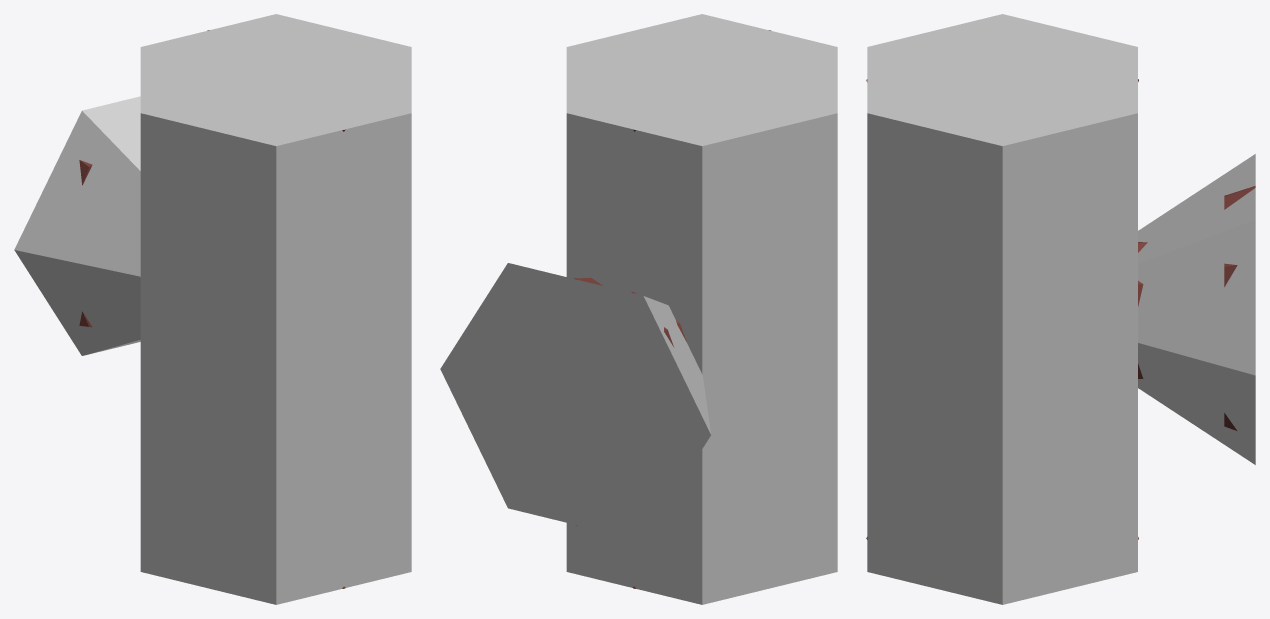
Rendered from SM_PipeMiddle.fbx.
3 views of the same model, side by side, from view 1: azimuth 30°, elevation 25°; view 2: azimuth 150°, elevation 25°; view 3: azimuth 270°, elevation 25° (orthographic).
Parts seen in each view (by area): view 1: SM_PipeMiddle_ConvexHulls; view 2: SM_PipeMiddle_ConvexHulls; view 3: SM_PipeMiddle_ConvexHulls, SM_PipeMiddle.
Part boxes in pixels (box(x1,y1,x2,y2)): SM_PipeMiddle_ConvexHulls: box(14, 14, 411, 604); SM_PipeMiddle_ConvexHulls: box(440, 14, 837, 604); SM_PipeMiddle_ConvexHulls: box(867, 14, 1255, 604); SM_PipeMiddle: box(866, 79, 1255, 539).
Bounding box in the file's own units: 41.72 × 51.93 × 67.49.
Materials: 2 (1 with a texture image).
